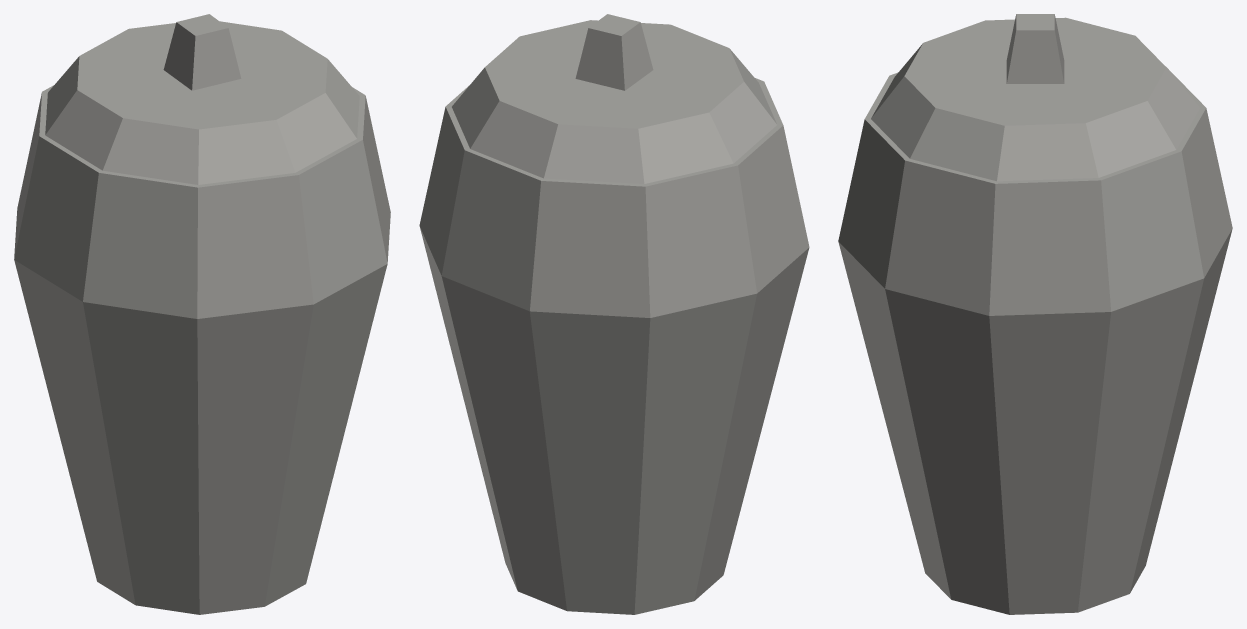
The model's file is Cup_3.fbx.
3 renders of one model, left to right at view 1: azimuth 30°, elevation 25°; view 2: azimuth 150°, elevation 25°; view 3: azimuth 270°, elevation 25°, orthographic.
Visible parts, largest first — view 1: polySurface1541; view 2: polySurface1541; view 3: polySurface1541.
Part boxes in pixels (x1,y1,x2,y2): polySurface1541: [14, 14, 390, 614]; polySurface1541: [419, 14, 809, 614]; polySurface1541: [838, 14, 1232, 614].
Size of the model in its own units: 0.2868 by 0.4502 by 0.294.
1 material, 1 textured.
